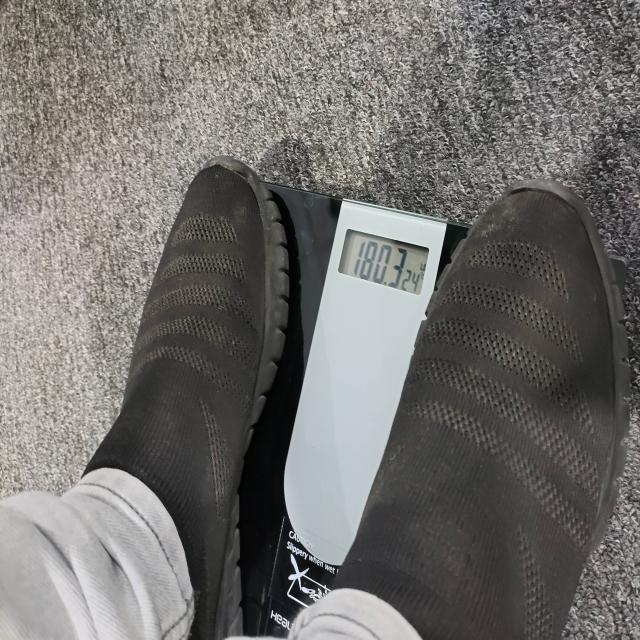ws: (281, 201, 467, 573)
